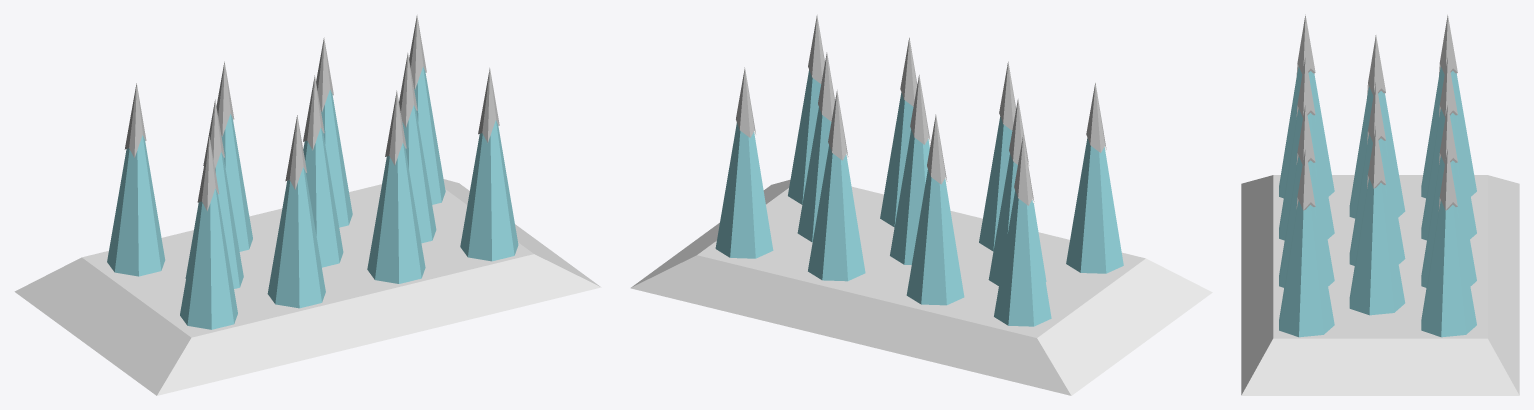
File: Spikes.fbx
3 renders of one model, left to right at view 1: azimuth 30°, elevation 25°; view 2: azimuth 150°, elevation 25°; view 3: azimuth 270°, elevation 25°, orthographic. The views are drawn at different scales.
Visible parts, largest first — view 1: Base, Spikes; view 2: Base, Spikes; view 3: Base, Spikes.
Part boxes in pixels (box(x1,y1,x2,y2)): Base: box(14, 179, 601, 395); Spikes: box(107, 14, 518, 329); Base: box(630, 180, 1212, 395); Spikes: box(715, 14, 1123, 326); Base: box(1241, 175, 1519, 395); Spikes: box(1279, 14, 1476, 337).
Size of the model in its own units: 227 by 105 by 126.
